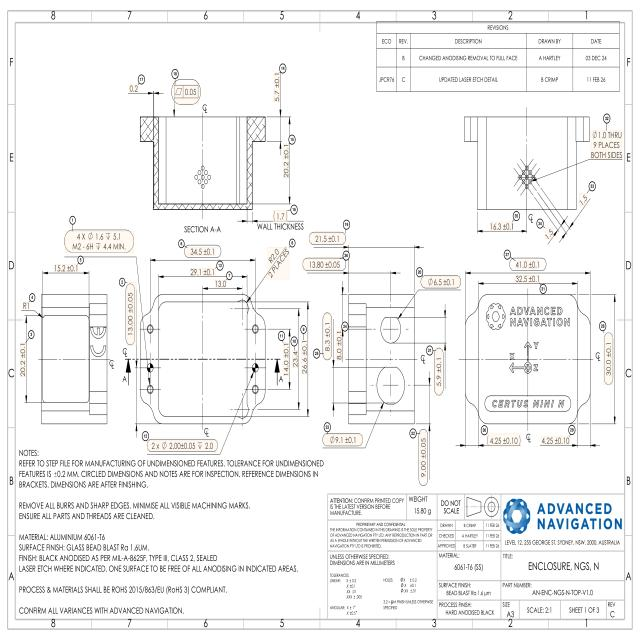dimension: (65, 230, 133, 253), (146, 439, 218, 452), (590, 130, 622, 159), (268, 247, 290, 279), (322, 432, 364, 447), (125, 282, 135, 345), (603, 332, 613, 386), (173, 83, 199, 102), (308, 232, 346, 245), (303, 258, 342, 270), (422, 276, 460, 288), (486, 434, 522, 446), (434, 348, 443, 396), (323, 312, 332, 360), (419, 432, 427, 479), (282, 142, 290, 179), (186, 247, 215, 257), (282, 342, 290, 376), (540, 436, 570, 445), (514, 274, 540, 284), (301, 339, 308, 375), (490, 221, 514, 231), (515, 260, 539, 270), (190, 268, 215, 277), (273, 72, 280, 102), (54, 264, 79, 272), (272, 210, 288, 222), (336, 330, 342, 361), (21, 342, 26, 377), (544, 227, 554, 240), (579, 193, 588, 207), (214, 279, 227, 288), (292, 349, 298, 368), (129, 84, 139, 94), (22, 301, 30, 311)
